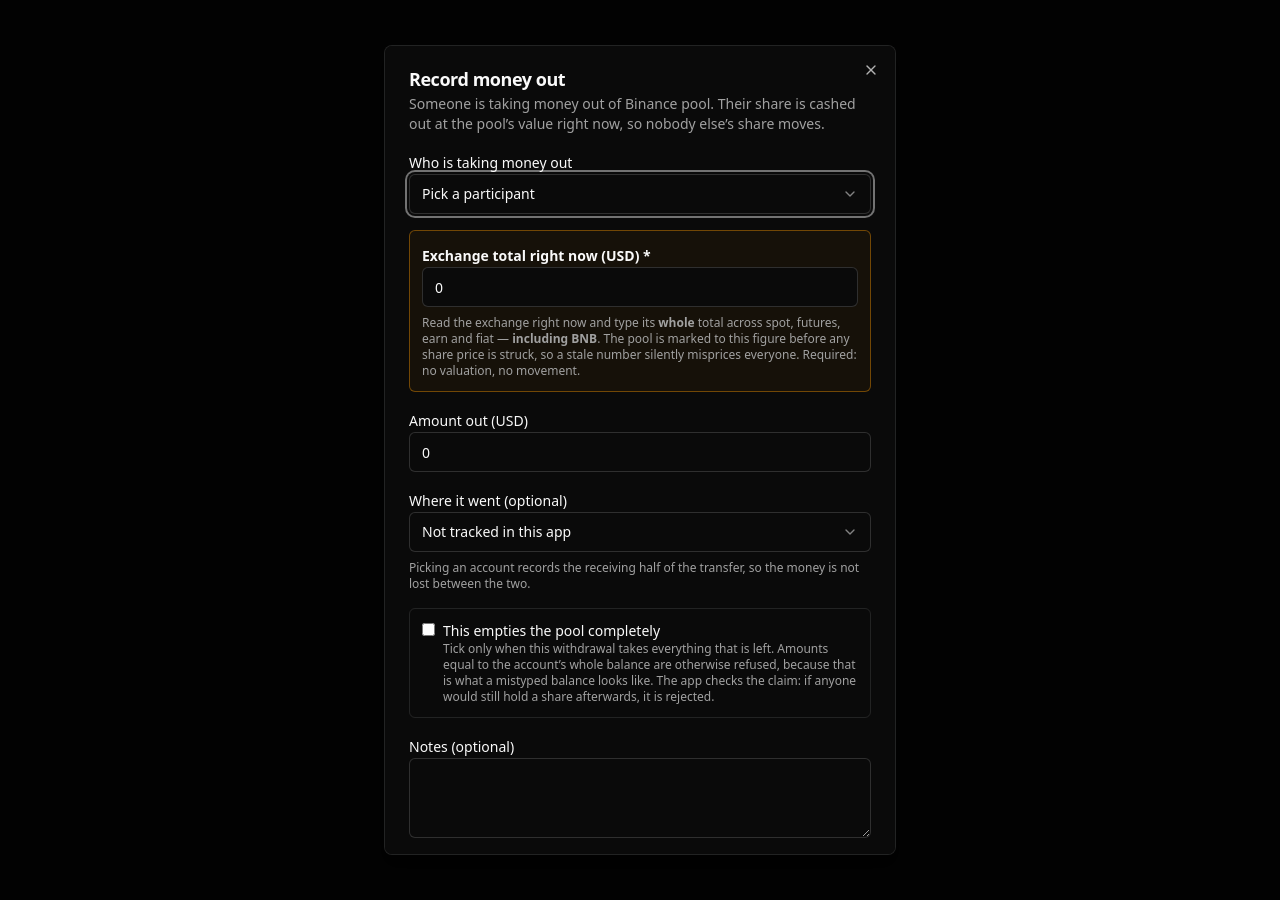
Scenario: RecordRedemptionDialog › refuses to move money without the exchange total
Click the dropdown with test id "redemption-participant-select" at (478, 194), box x1=409 y1=174 x2=871 y2=214
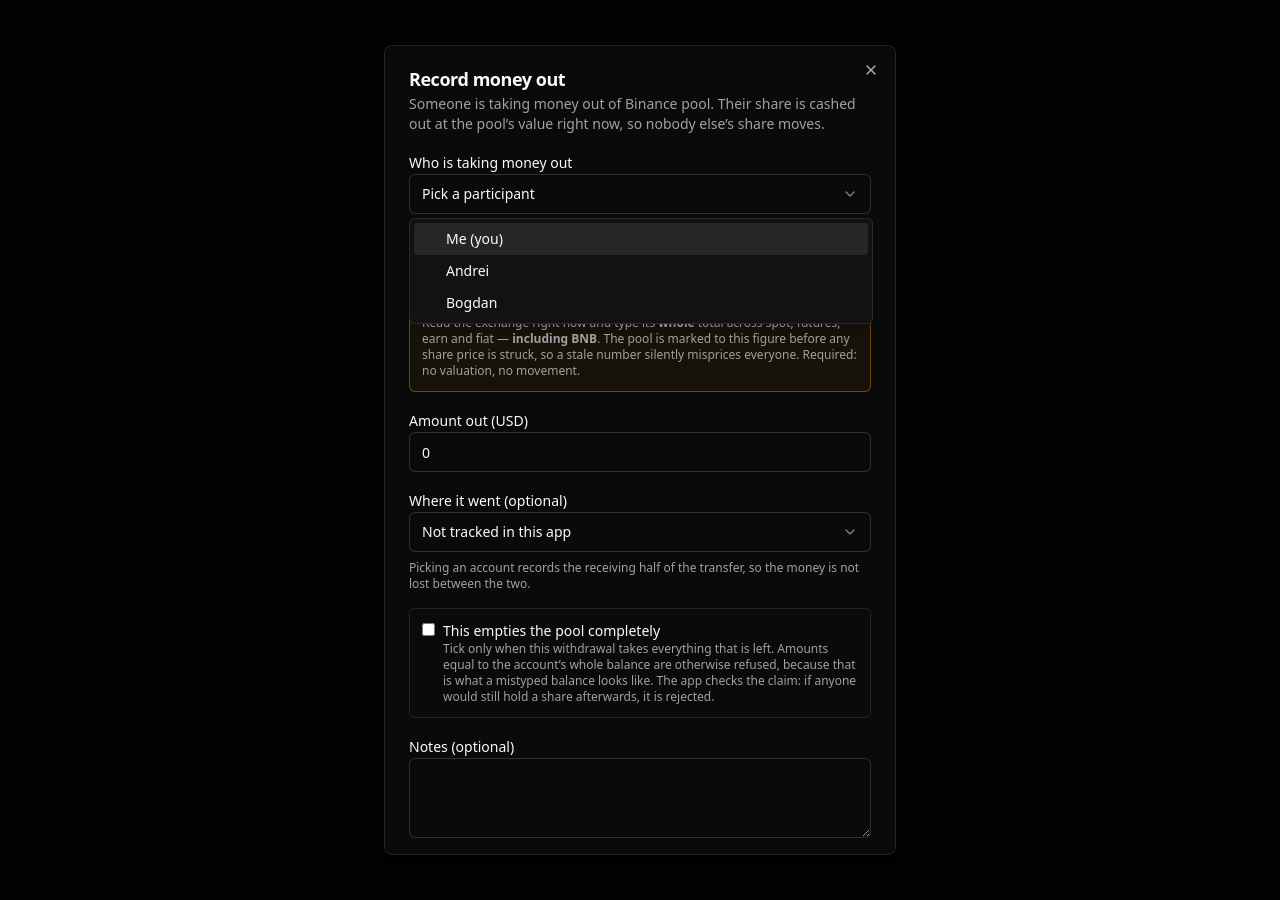
Click the option "Andrei" at (468, 270), box x1=446 y1=261 x2=489 y2=280
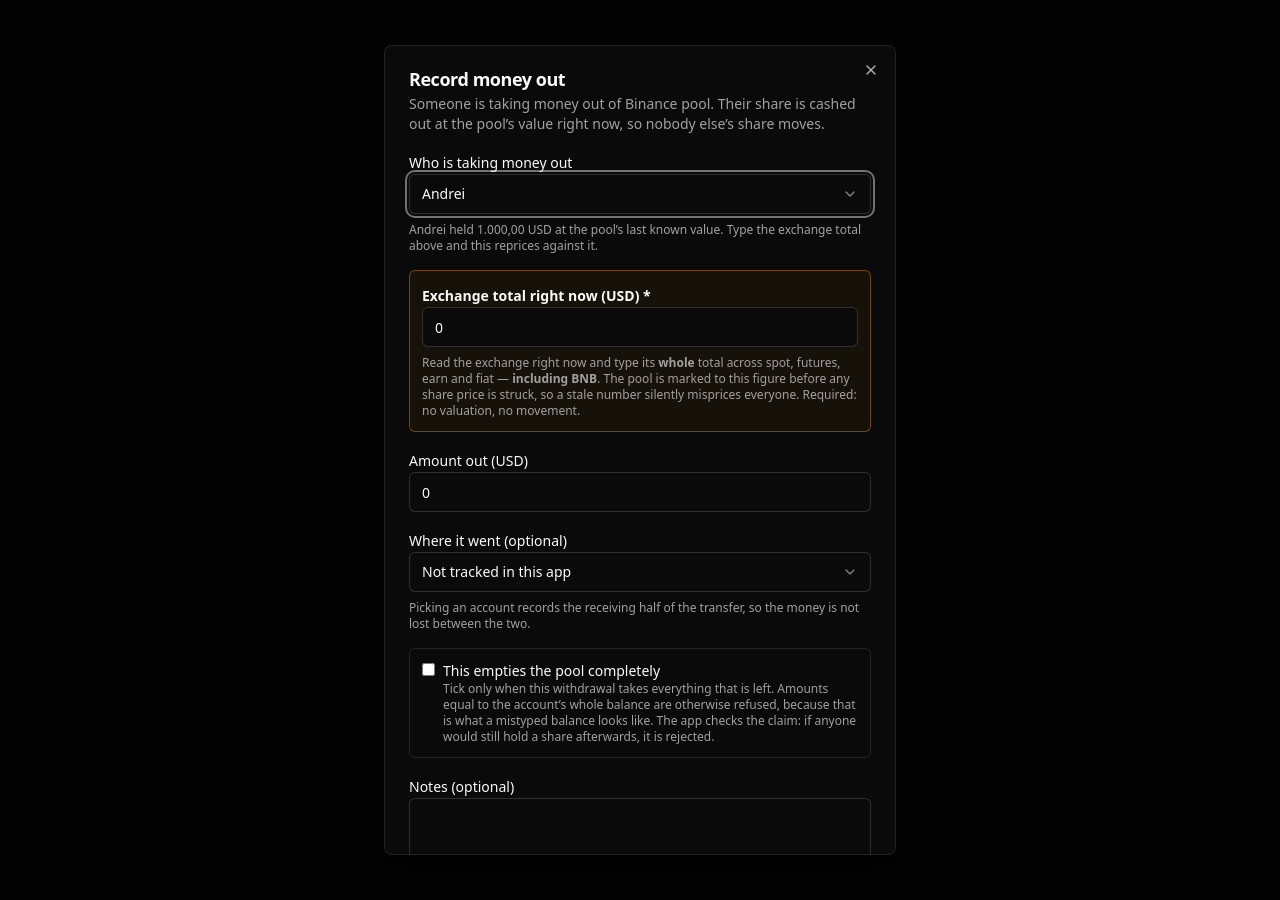
Replace the text in the number field with test id "redemption-cash-input" with "120" at (640, 492), box x1=409 y1=472 x2=871 y2=512
(page scrolled)
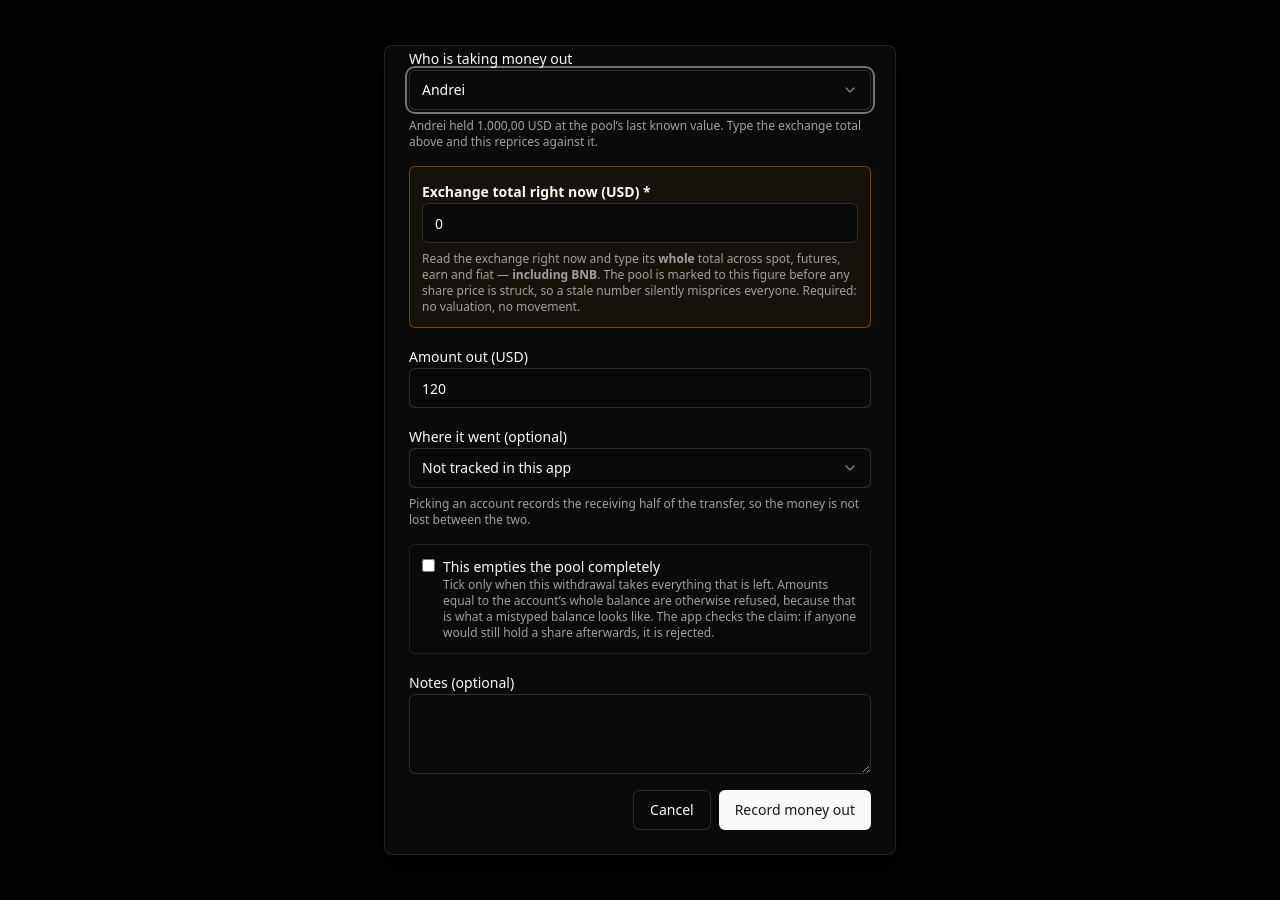
Click the button with test id "redemption-submit-button" at (795, 810), box x1=719 y1=790 x2=871 y2=830
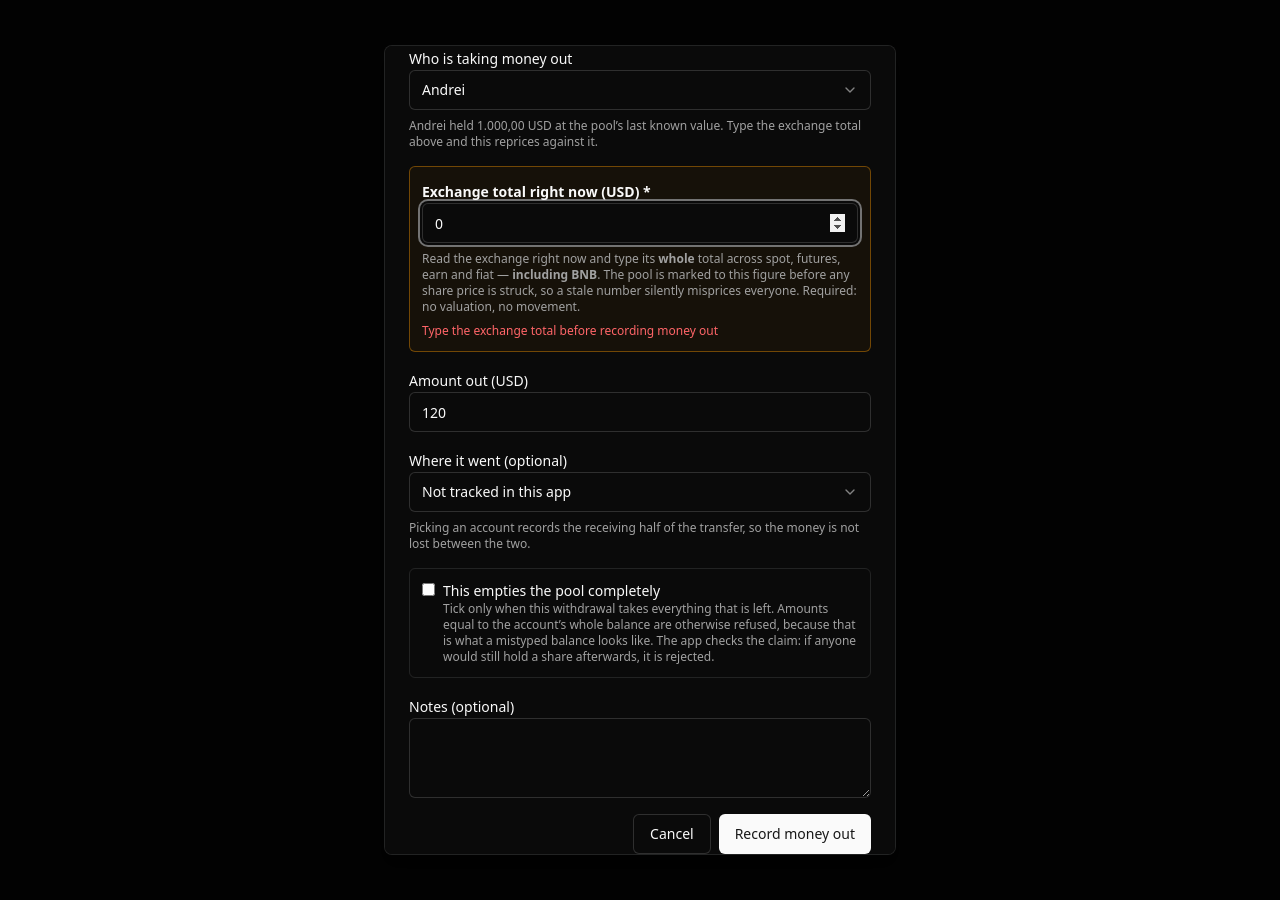
Expected: the text "Type the exchange total before recording money out" is shown, x1=422 y1=322 x2=718 y2=339
